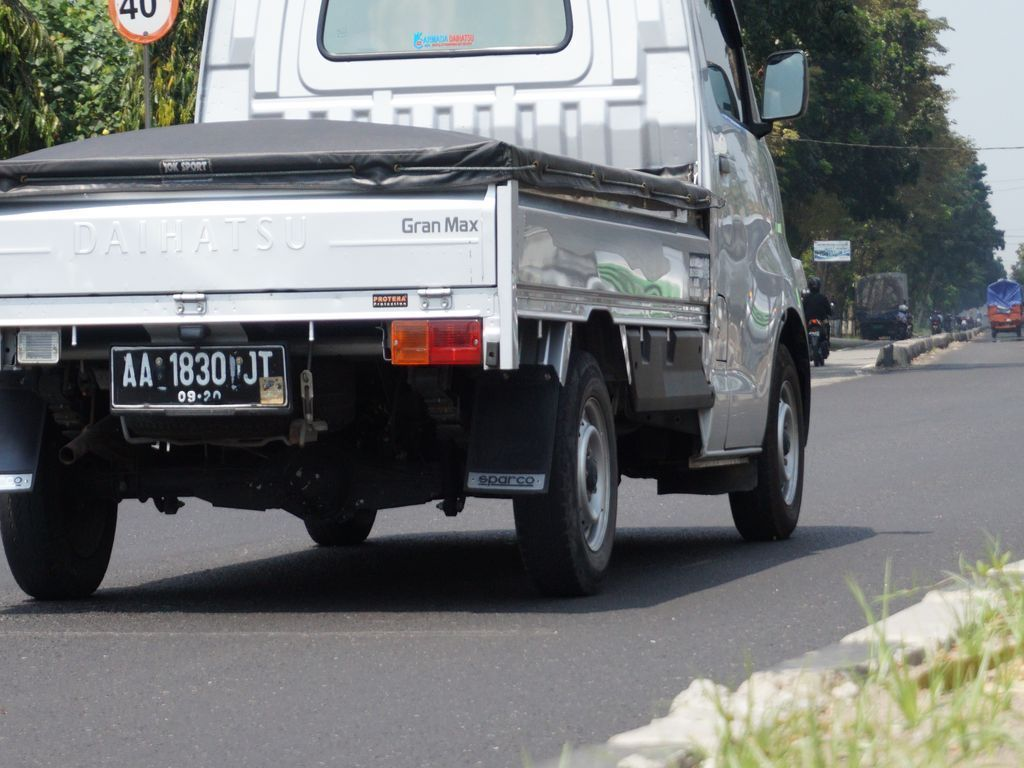plate: (116, 350, 278, 402)
